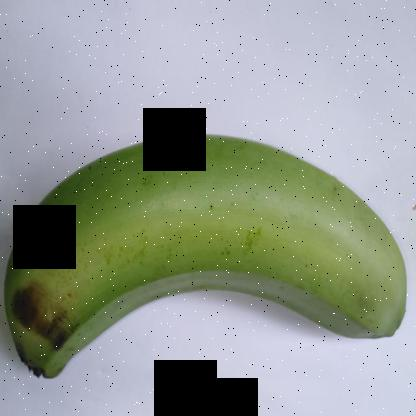freshunripe: (0, 126, 414, 390)
